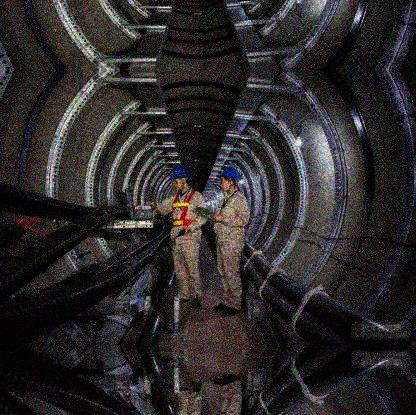helmet: (214, 166, 238, 193), (168, 166, 189, 191)
